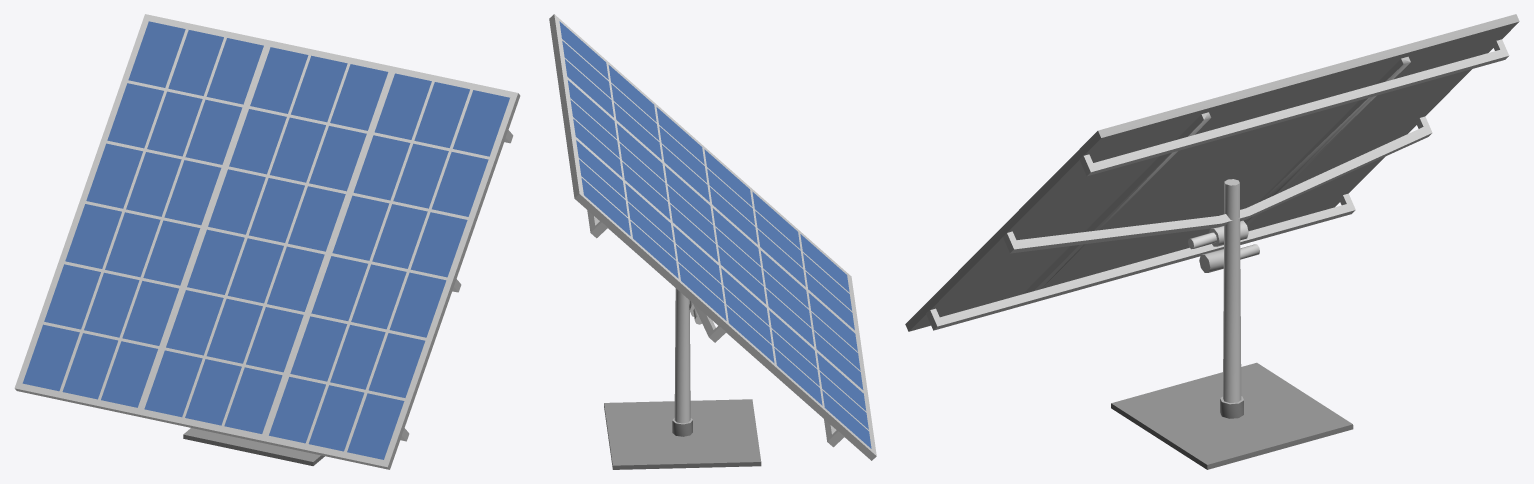
The picture shows the model from 3 angles, left to right: view 1: azimuth 30°, elevation 25°; view 2: azimuth 150°, elevation 25°; view 3: azimuth 270°, elevation 25°; orthographic projection. The views are drawn at different scales.
Parts seen in each view (by area): view 1: Plane.003, Cylinder; view 2: Plane.003, Cylinder; view 3: Plane.003, Cylinder.
Boxes of the visible parts, left/top/right/bottom form: Plane.003: left=14, top=14, right=520, bottom=469; Cylinder: left=183, top=428, right=324, bottom=465; Plane.003: left=549, top=14, right=876, bottom=460; Cylinder: left=604, top=288, right=761, bottom=469; Plane.003: left=905, top=14, right=1519, bottom=331; Cylinder: left=1111, top=179, right=1353, bottom=469.
Bounding box in the file's own units: 4.04 × 3.07 × 4.33.
Materials: 1 (1 with a texture image).
